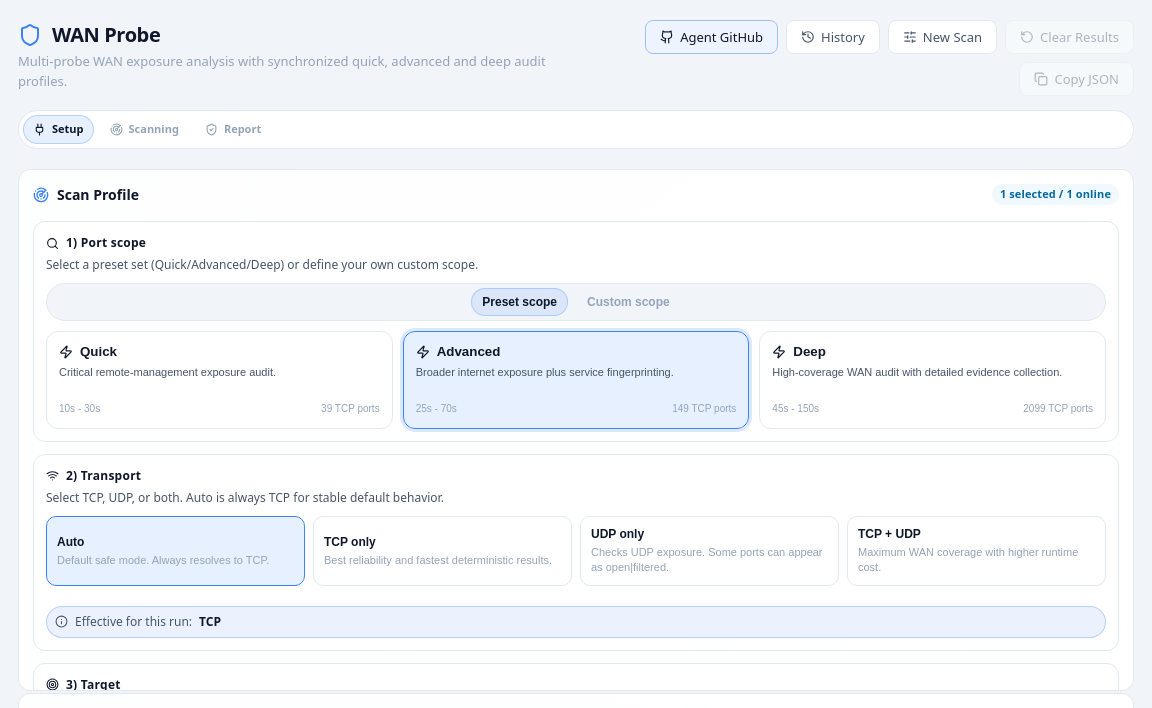
Scenario: WanProbe scan flow › updates preset port counts when transport selection changes
Expected: the button "Advanced" shows "149 TCP ports", [403,331,749,428]
Click the button "UDP only" at (710, 551), box [580,516,839,586]
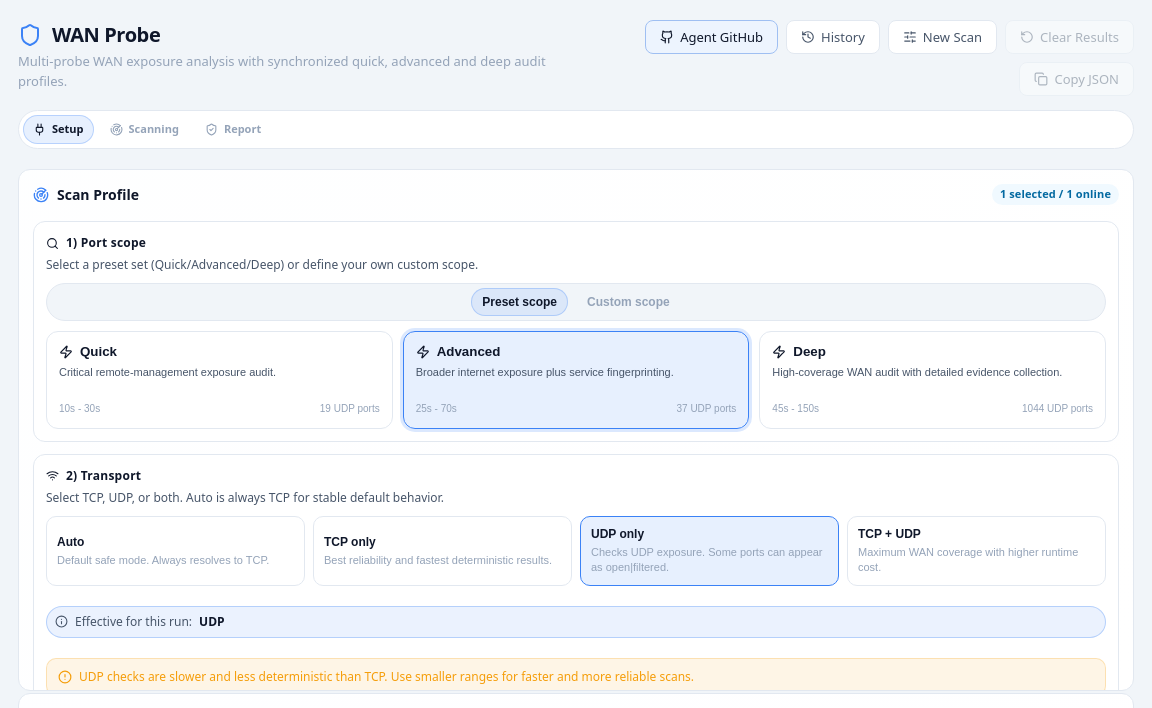
Result: the button "Advanced" shows "37 UDP ports" at [403,331,749,428]
Click the button "TCP + UDP" at (976, 551), box [847,516,1106,586]
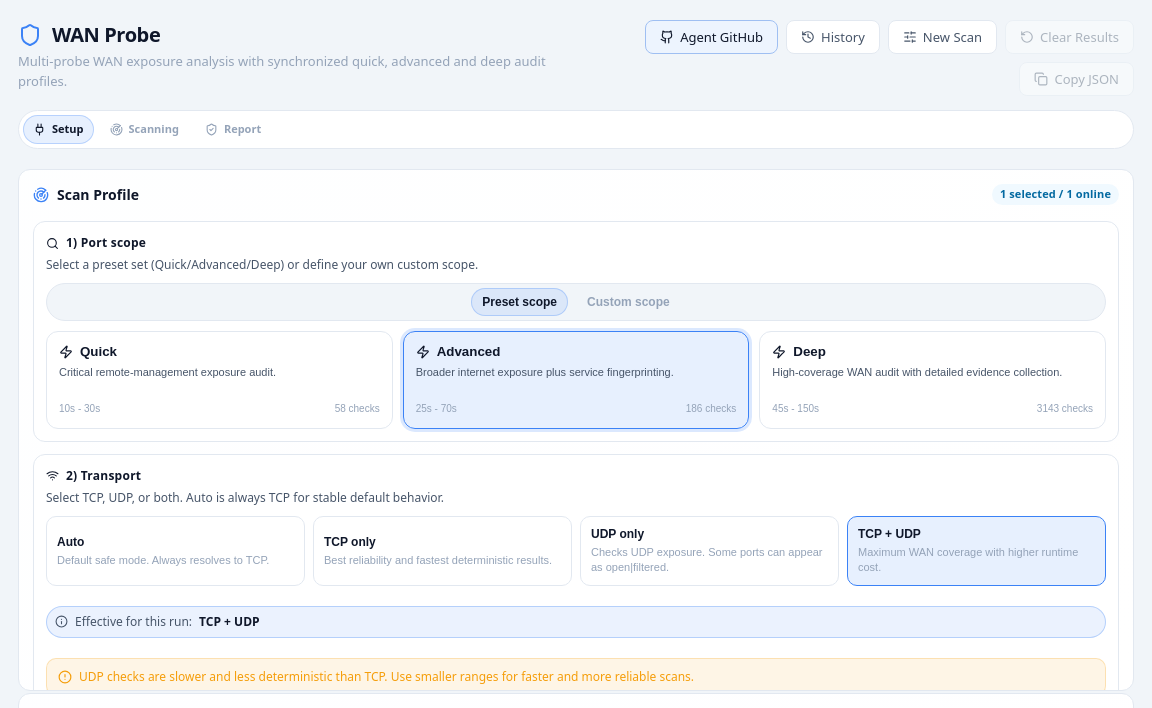
Result: the button "Advanced" shows "186 checks" at [403,331,749,428]
